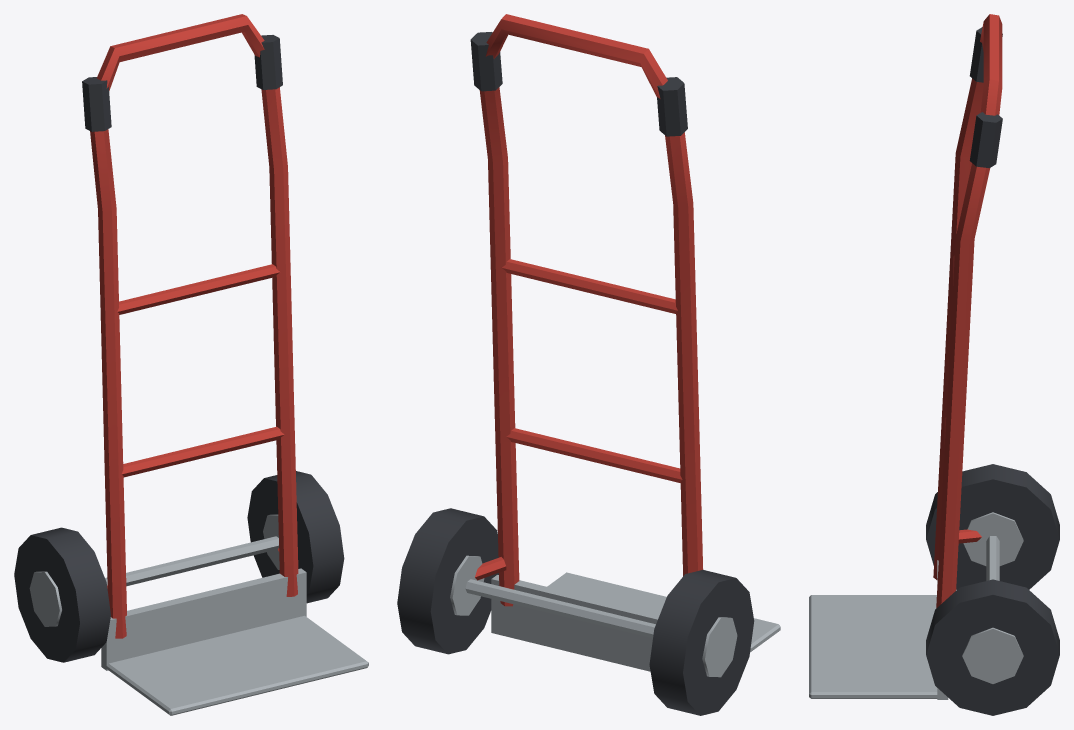
Rendered from hand_truck.glb.
3 views of the same model, side by side, from view 1: azimuth 30°, elevation 25°; view 2: azimuth 150°, elevation 25°; view 3: azimuth 270°, elevation 25° (orthographic). The views are drawn at different scales.
Visible parts, largest first — view 1: hand_truck; view 2: hand_truck; view 3: hand_truck.
Boxes of the visible parts, x1,y1,x2,y2 form: hand_truck: (14, 14, 368, 715); hand_truck: (397, 14, 780, 715); hand_truck: (809, 14, 1059, 715).
Bounding box in the file's own units: 0.565 × 1.2 × 0.45.
